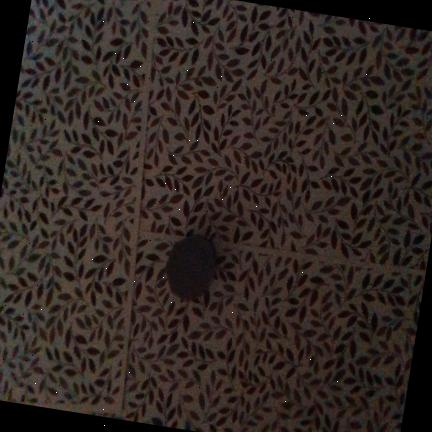Prisma_hexagonal: (165, 236, 217, 300)
